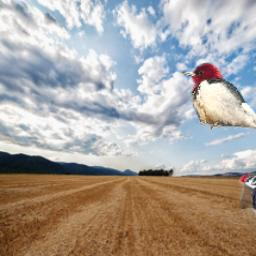Woodpecker: (180, 62, 256, 131), (239, 169, 256, 242)
